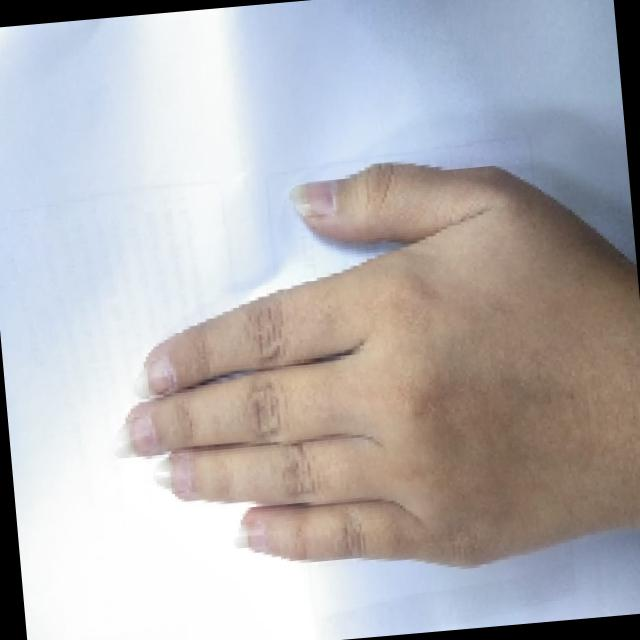Nail: (290, 179, 337, 218), (135, 355, 177, 398), (114, 419, 156, 455), (154, 457, 193, 494), (235, 524, 267, 551)
